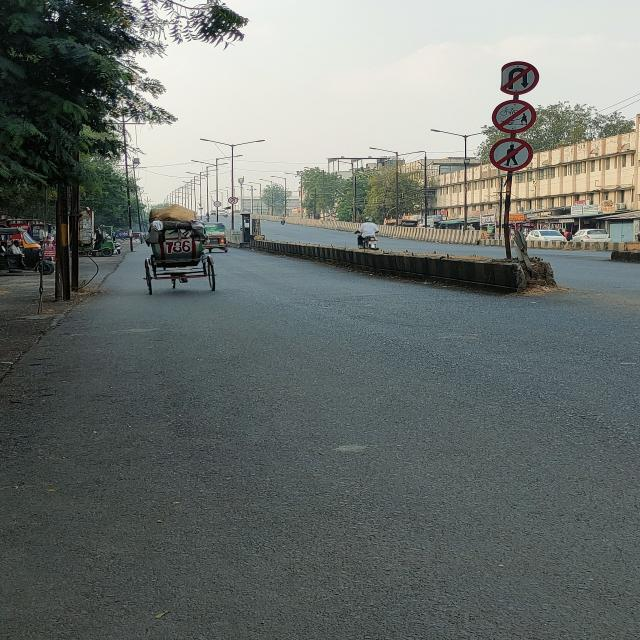CYCLE_PROHIBITED: (491, 99, 537, 135)
